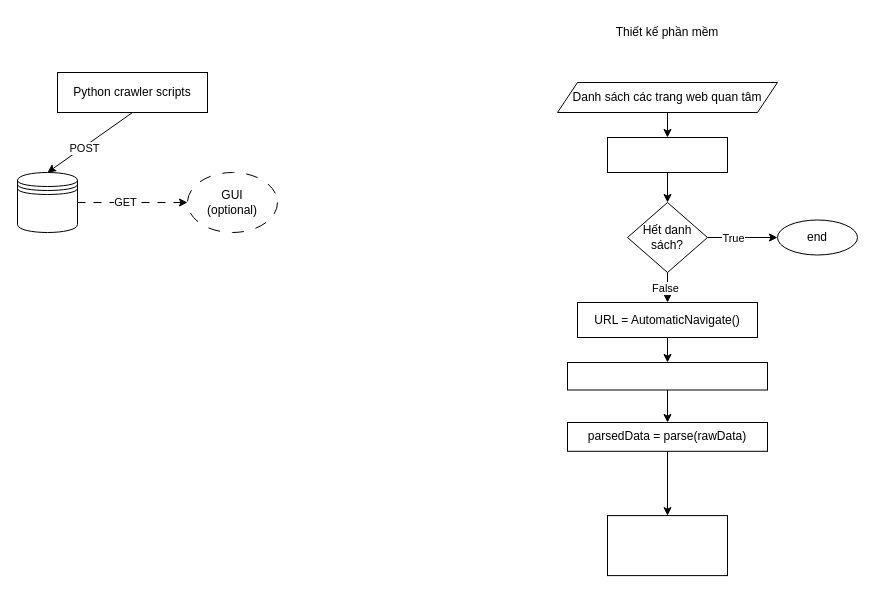
Image size: 875x593. Some labels were removed from this diagram. Each missing label, with the box of its shape:
Data = extract(parsedD): (606, 515, 728, 576)
Database: (16, 172, 78, 232)
rawData = HTTPS.GET(URL)··: (566, 362, 768, 390)
Tạo object list dựa trên danh sách: (606, 136, 728, 172)
